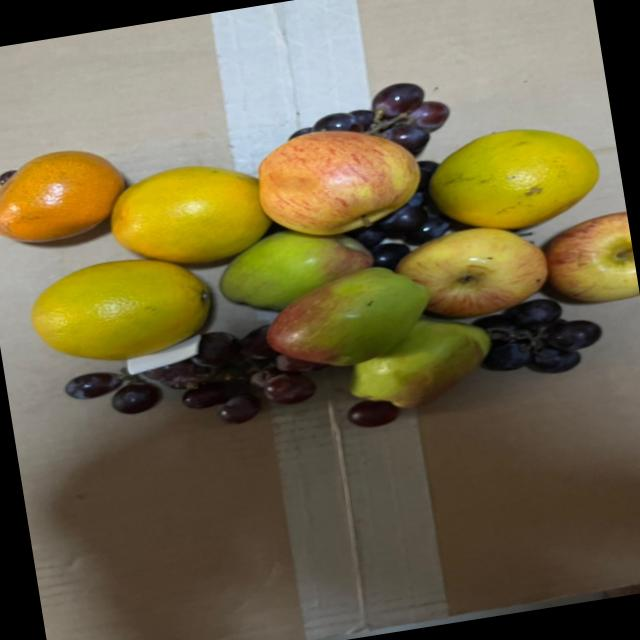hoja: (128, 341, 202, 374)
